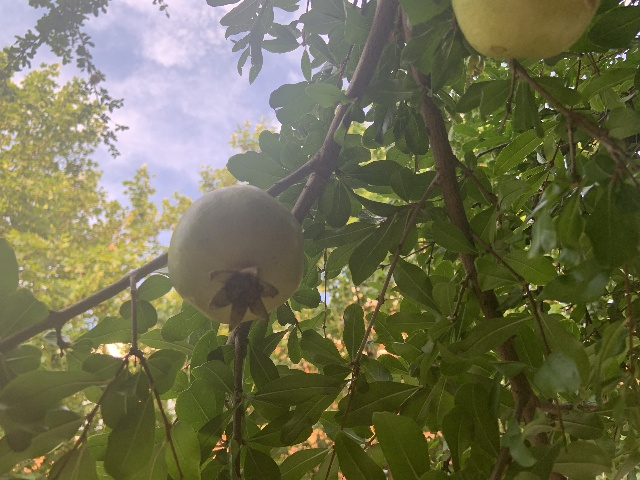mid-growth: (167, 184, 305, 328)
